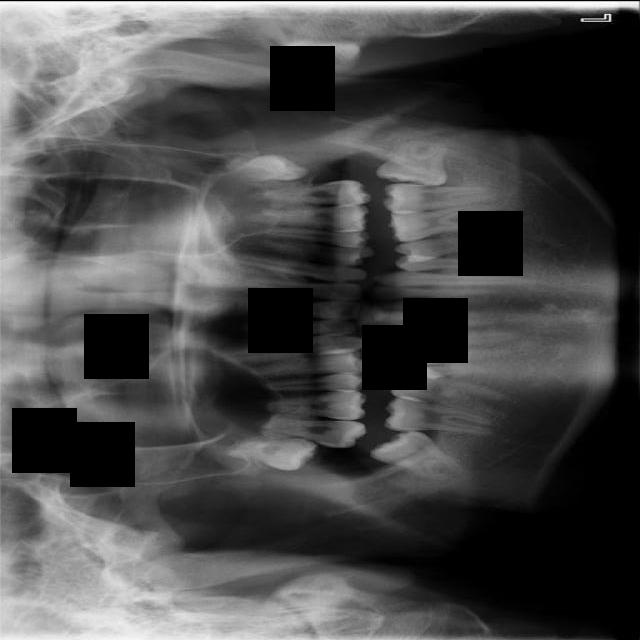3M ESPE Implant: (218, 432, 319, 471)
52: (387, 355, 444, 412), (419, 185, 442, 190)
73: (618, 12, 628, 23)
BioHorizons Implant: (246, 178, 372, 209)
BioLife Implant: (218, 152, 310, 182)
Biomet 3i Implant: (375, 139, 448, 188)
Blue Sky Bio Implant: (383, 181, 501, 216)
Caries: (251, 414, 367, 449)
Implant: (383, 392, 499, 444)
Keystone Dental Implant: (368, 414, 471, 499)
